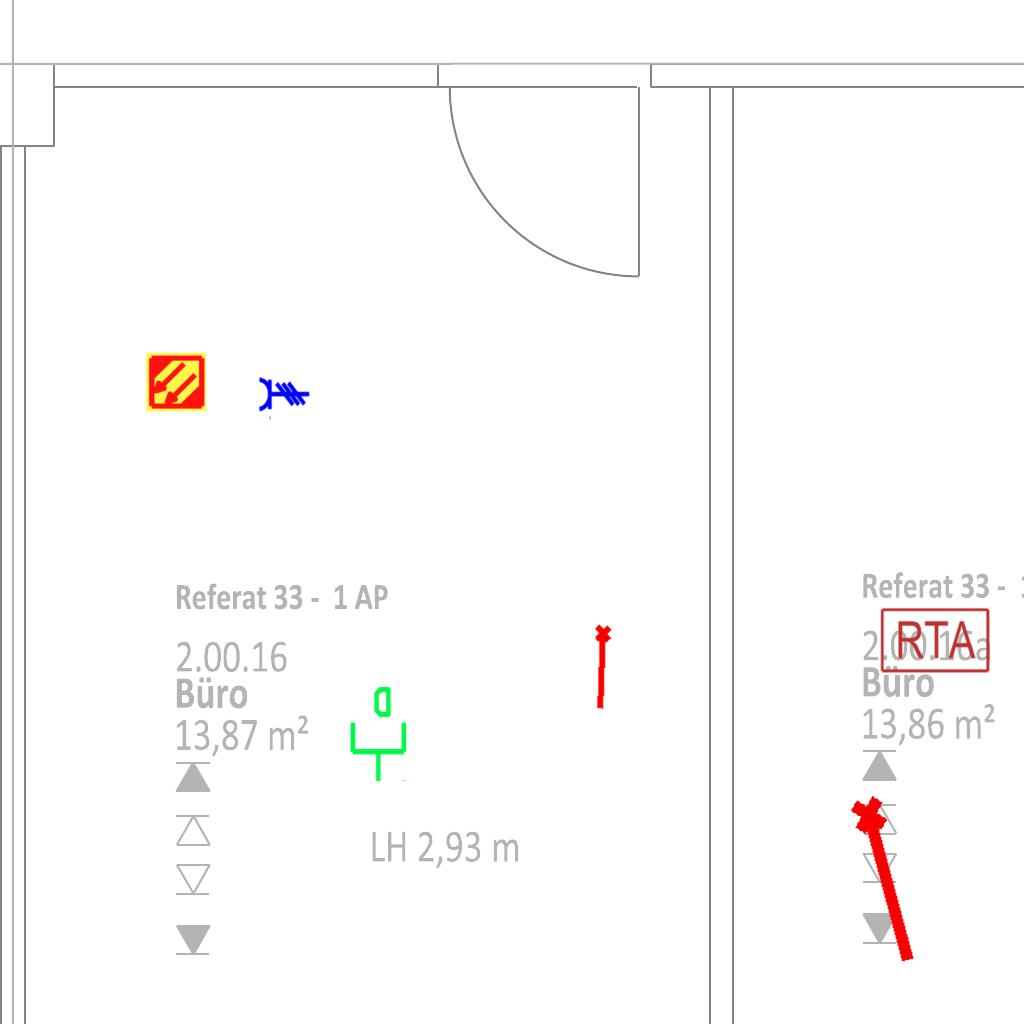ASR_Ansaugoeffnung: (844, 789, 934, 971), (589, 623, 617, 712)
ASR_Ansaugrauchmelder: (145, 351, 207, 413)
CEE_Drehstrom_Steckdose_16_32_A: (258, 376, 310, 421)
Datenanschluss_einfach: (342, 684, 411, 784)
Ruf-und_Abstelltaster: (877, 606, 991, 675)
